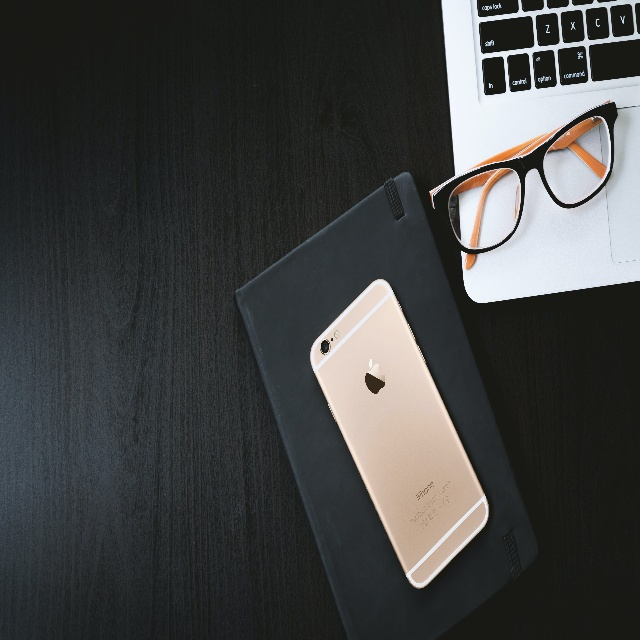Gafas: (423, 92, 616, 255)
